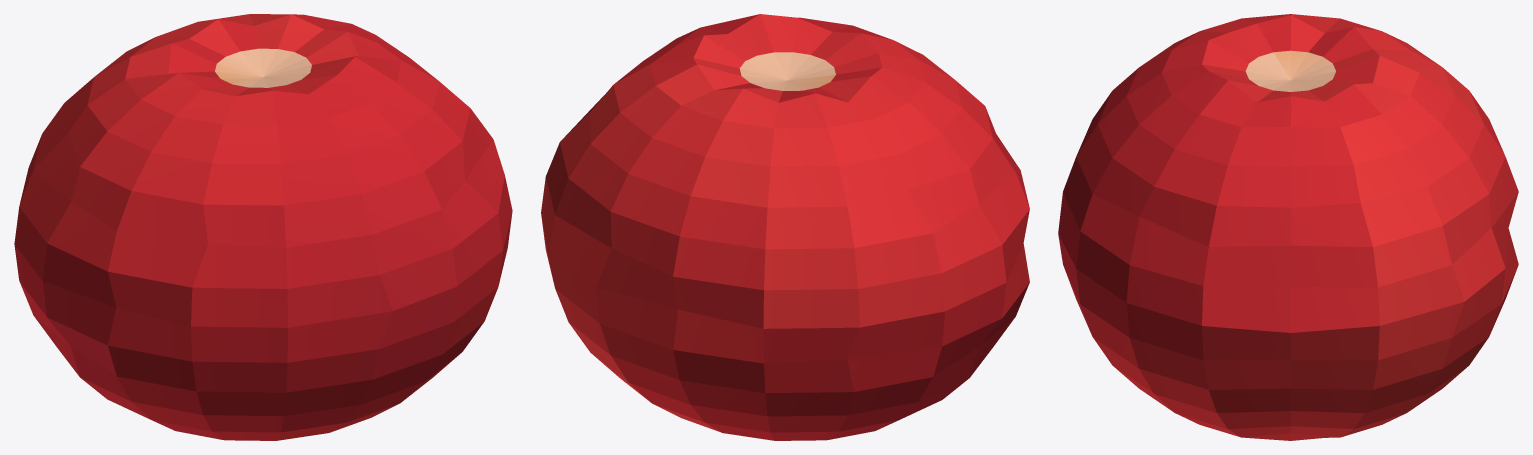
Rendered from Tomato.fbx.
The picture shows the model from 3 angles, left to right: view 1: azimuth 30°, elevation 25°; view 2: azimuth 150°, elevation 25°; view 3: azimuth 270°, elevation 25°; orthographic projection.
Visible parts, largest first — view 1: Sphere; view 2: Sphere; view 3: Sphere.
Boxes of the visible parts, box(x1,y1,x2,y2) form: Sphere: box(14, 14, 512, 440); Sphere: box(541, 14, 1029, 440); Sphere: box(1058, 14, 1518, 440).
Size of the model in its own units: 182 by 145 by 168.
